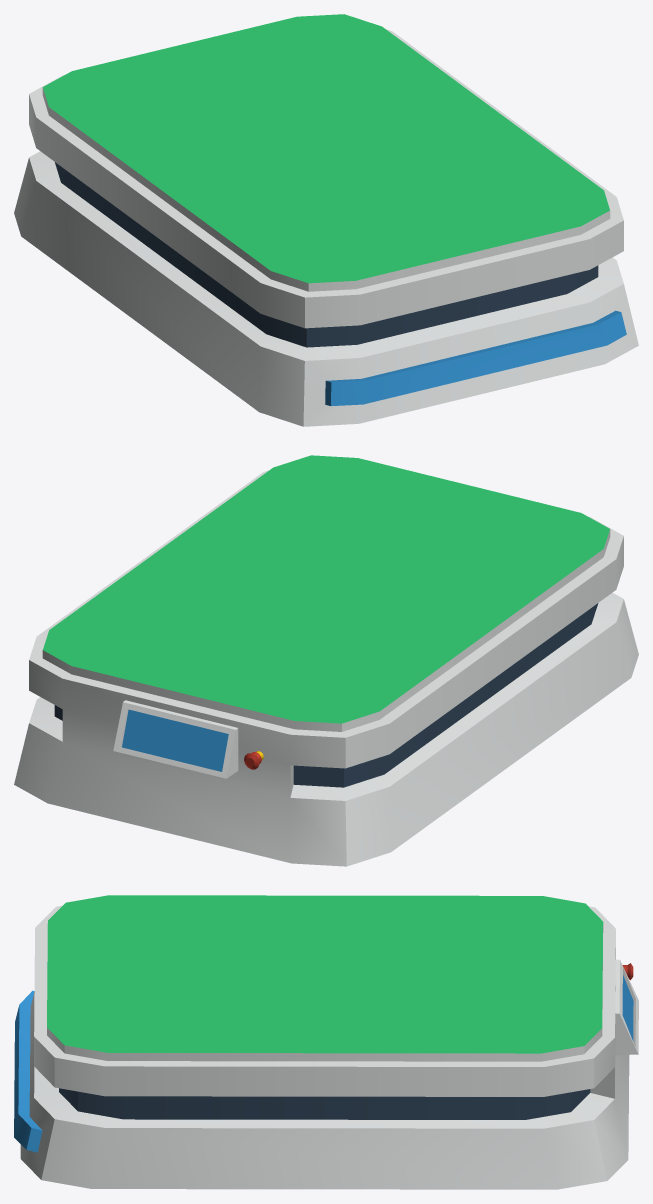
Rendered from Robot_002.fbx.
3 renders of one model, top to bottom at view 1: azimuth 30°, elevation 25°; view 2: azimuth 150°, elevation 25°; view 3: azimuth 270°, elevation 25°, orthographic. The views are drawn at different scales.
Parts seen in each view (by area): view 1: Robot_002; view 2: Robot_002; view 3: Robot_002.
Boxes of the visible parts, bbox=[...] form: Robot_002: bbox=[14, 14, 638, 426]; Robot_002: bbox=[14, 455, 638, 866]; Robot_002: bbox=[14, 895, 638, 1189].
Size of the model in its own units: 63.47 by 21.23 by 94.76.
